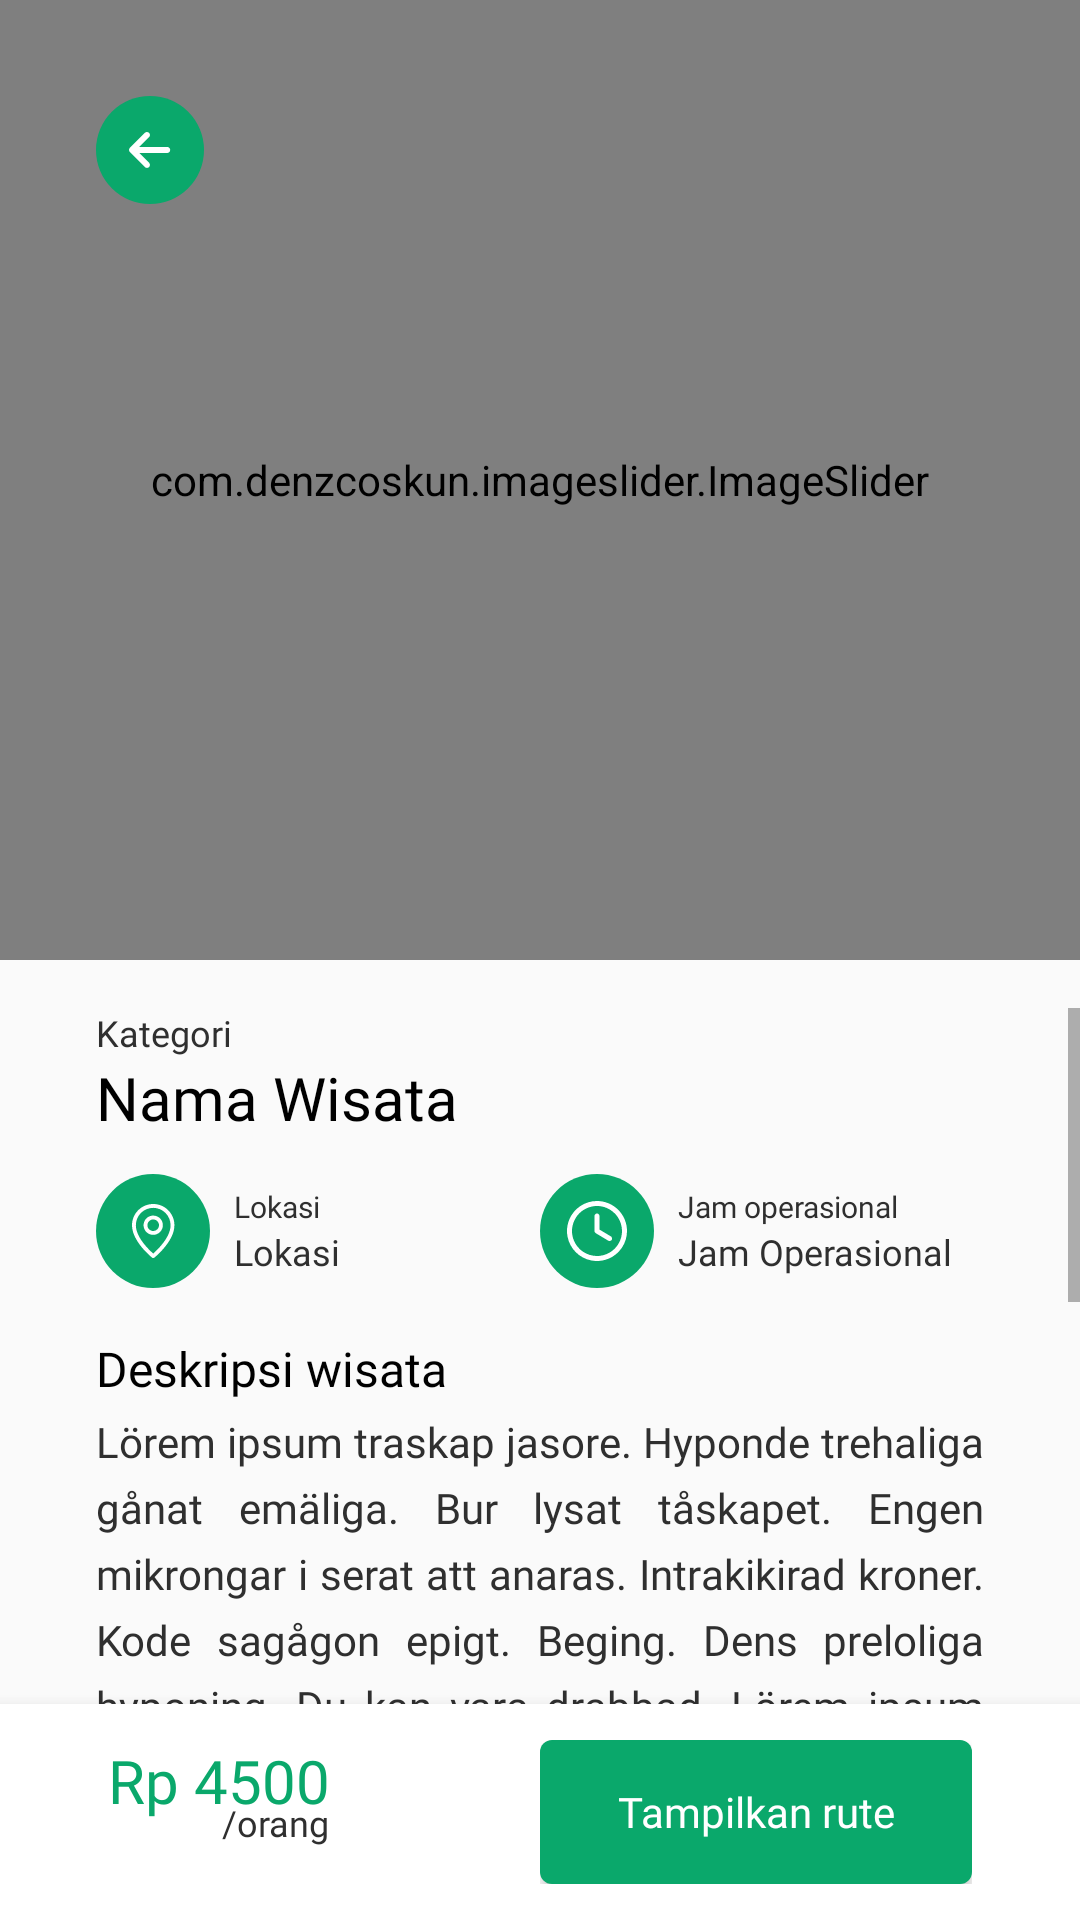

Where to tap for icons on this 1080 × 1920 app screen, as (x=x, y=y):
kembali bghijau: (x=150, y=150)
